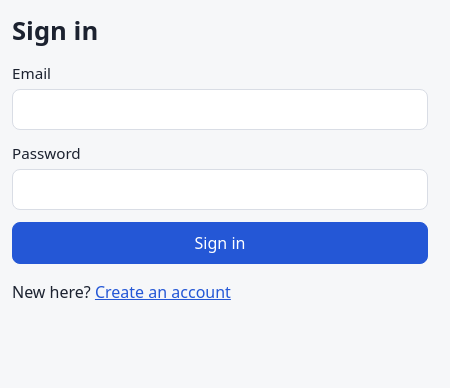
Test: LoginPage › shows the server's message for a wrong password and stores nothing
Type "asha@demo.test" into the field labelled "Email". click: (220, 110)
box: [12,89,428,130]
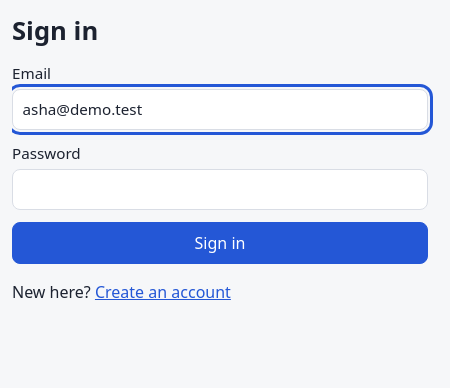
Type "wrong" into the password field labelled "Password". click: (220, 189)
box: [12,169,428,210]
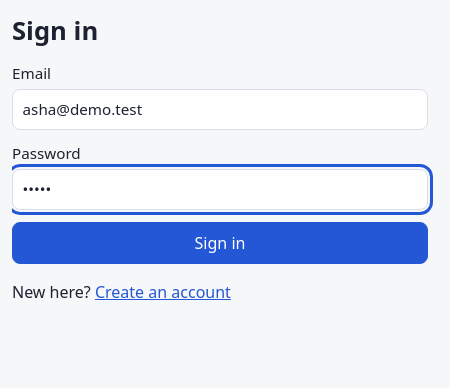
Click the button "Sign in". click: (220, 242)
box: [12,222,428,264]
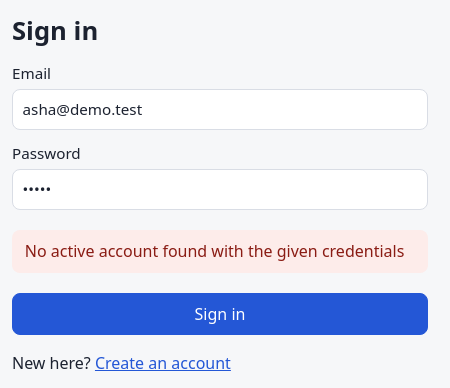
Expected: the button "Sign in" is enabled, [12,293,428,335]
Now the message shows "No active account found", box [25,240,404,262]
